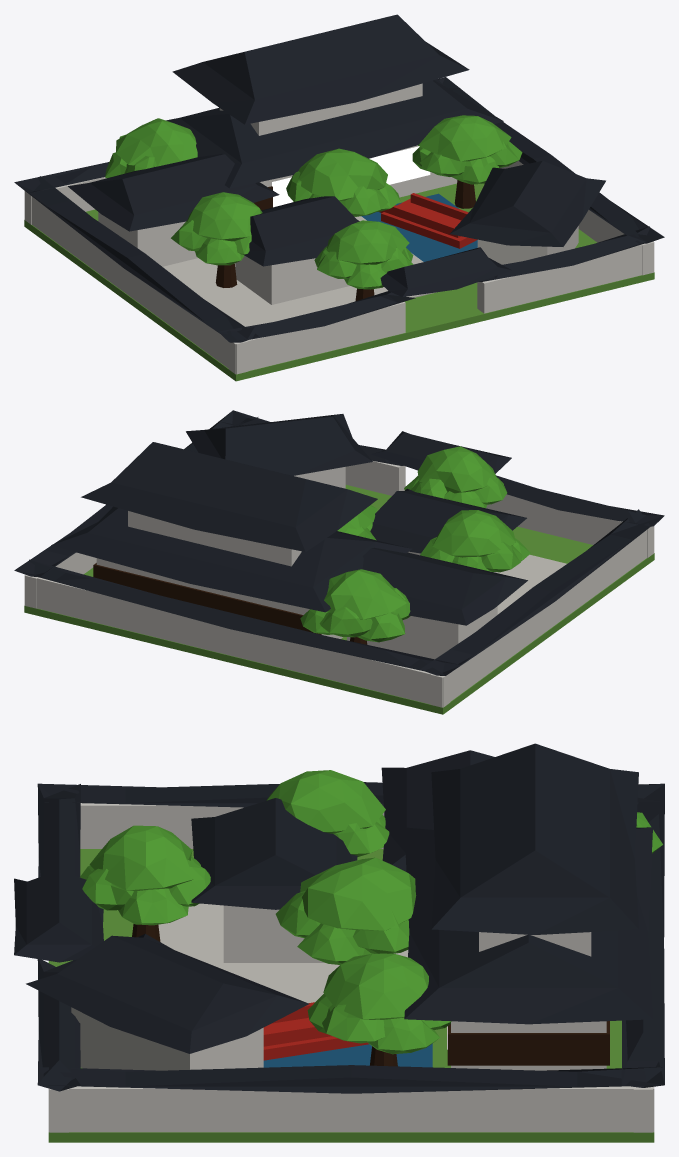
Rendered from hieda-estate.glb.
3 views of the same model, one above another, from view 1: azimuth 30°, elevation 25°; view 2: azimuth 150°, elevation 25°; view 3: azimuth 270°, elevation 25° (orthographic). The views are drawn at different scales.
Parts seen in each view (by area): view 1: HiedaEstate_Opaque, HiedaEstate_Emissive; view 2: HiedaEstate_Opaque; view 3: HiedaEstate_Opaque.
Boxes of the visible parts, x1,y1,x2,y2 form: HiedaEstate_Opaque: (14,14,664,381); HiedaEstate_Emissive: (272,146,430,207); HiedaEstate_Opaque: (14,410,664,714); HiedaEstate_Opaque: (14,743,664,1142).
Size of the model in its own units: 33 by 11.8 by 30.1.
